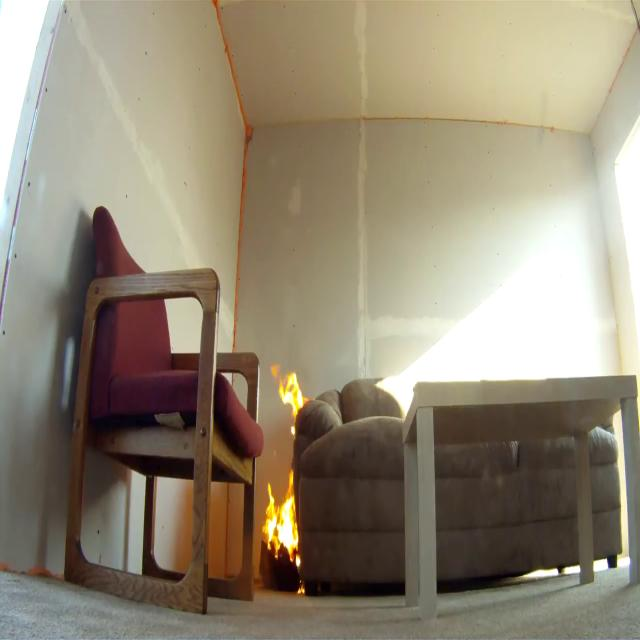fire: (260, 468, 303, 569), (268, 358, 307, 420)
